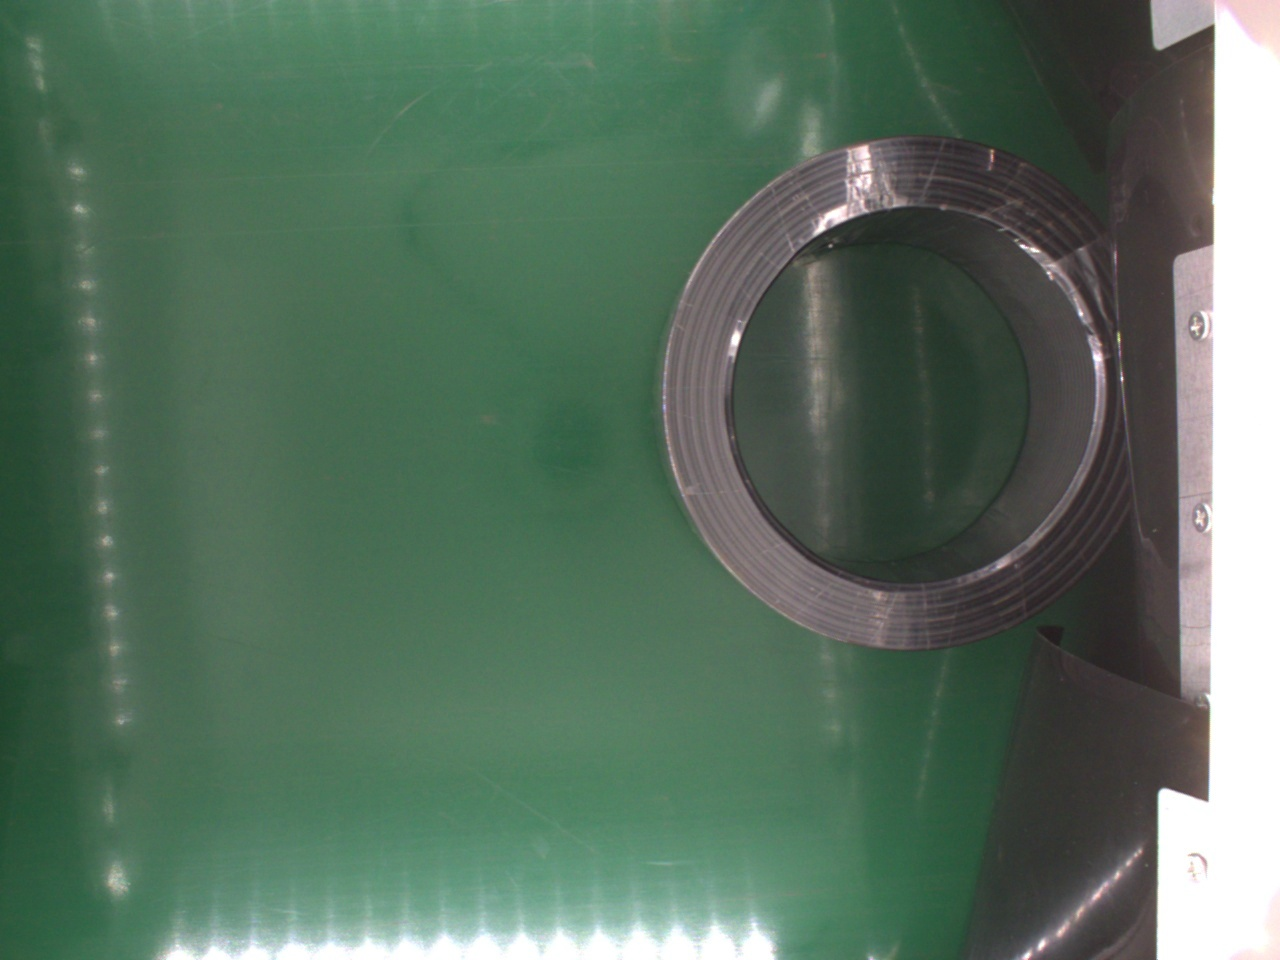black: (657, 135, 1126, 656)
